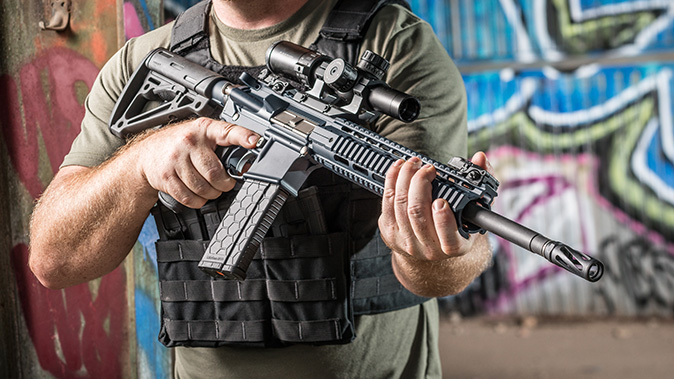Rifle: (110, 38, 611, 286)
